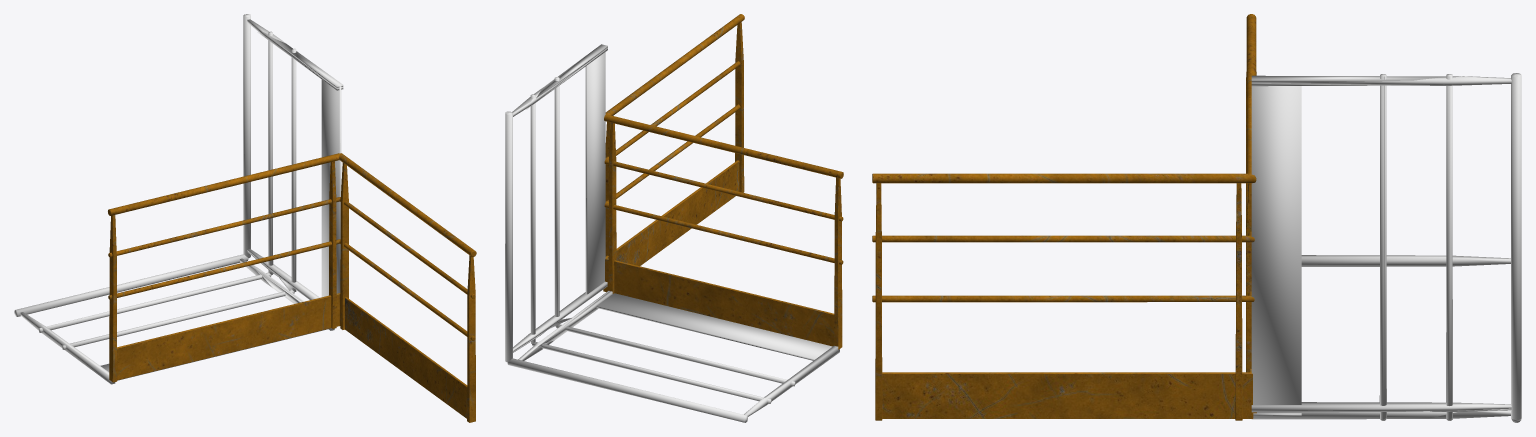
Rendered from SM_Barrier_Corner_Balcony.fbx.
3 renders of one model, left to right at view 1: azimuth 30°, elevation 25°; view 2: azimuth 150°, elevation 25°; view 3: azimuth 270°, elevation 25°, orthographic. The views are drawn at different scales.
Visible parts, largest first — view 1: SM_Barrier_Corner_Balcony, SM_Barrier_Corner_Balcony_ConvexHulls; view 2: SM_Barrier_Corner_Balcony, SM_Barrier_Corner_Balcony_ConvexHulls; view 3: SM_Barrier_Corner_Balcony_ConvexHulls, SM_Barrier_Corner_Balcony.
Boxes of the visible parts, x1,y1,x2,y2 form: SM_Barrier_Corner_Balcony: [108, 153, 476, 422]; SM_Barrier_Corner_Balcony_ConvexHulls: [14, 14, 343, 384]; SM_Barrier_Corner_Balcony: [603, 14, 843, 349]; SM_Barrier_Corner_Balcony_ConvexHulls: [505, 44, 839, 422]; SM_Barrier_Corner_Balcony_ConvexHulls: [1251, 73, 1521, 422]; SM_Barrier_Corner_Balcony: [872, 14, 1256, 420].
Bounding box in the file's own units: 1.52 × 1.52 × 2.57.
